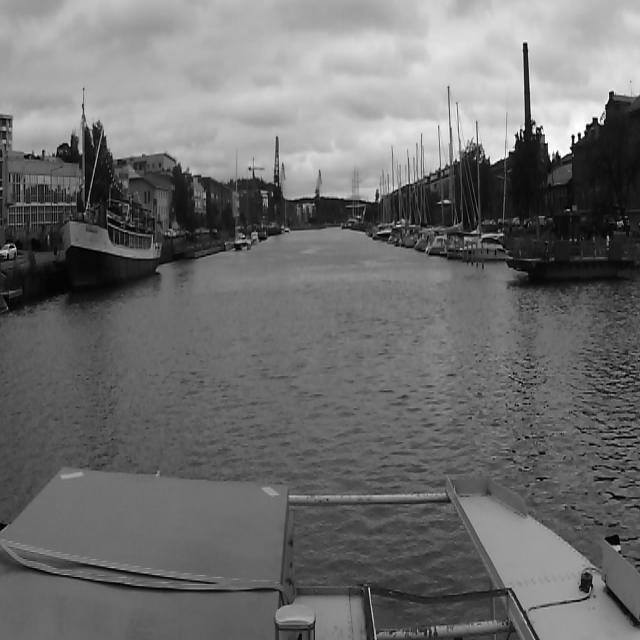ship: (60, 88, 164, 298), (504, 205, 640, 286), (418, 130, 460, 258), (224, 148, 252, 254), (458, 233, 507, 265)
